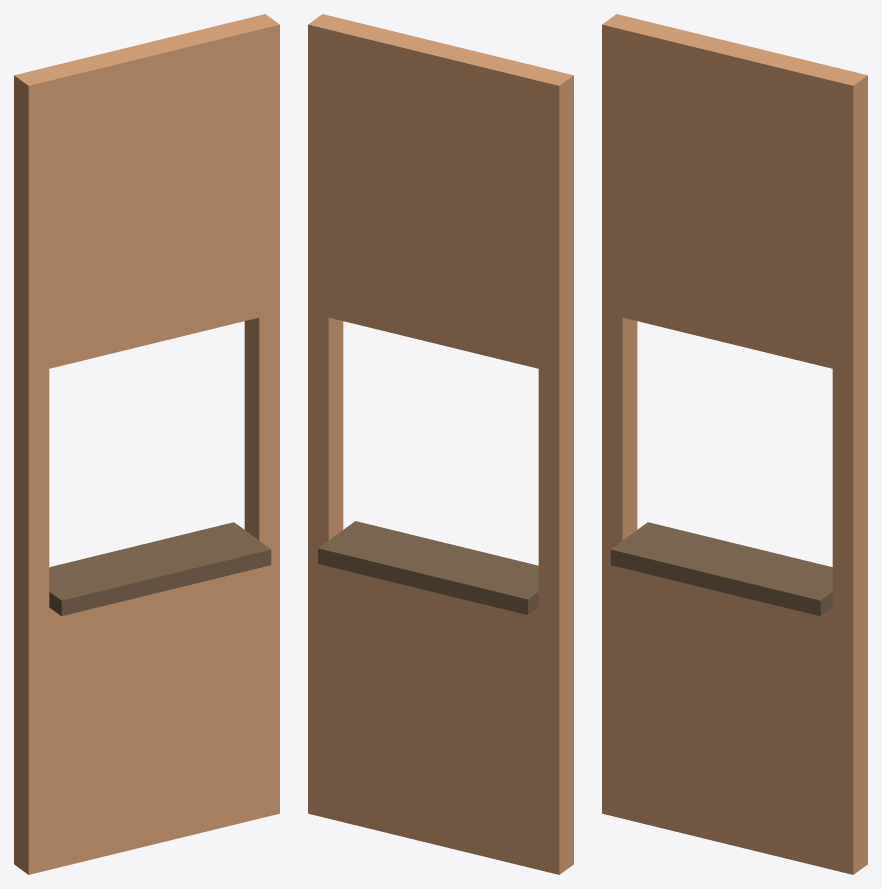
Rendered from Mesh_Wall_D2.fbx.
3 views of the same model, side by side, from view 1: azimuth 30°, elevation 25°; view 2: azimuth 150°, elevation 25°; view 3: azimuth 330°, elevation 25° (orthographic).
Visible parts, largest first — view 1: Mesh_Wall_D2; view 2: Mesh_Wall_D2; view 3: Mesh_Wall_D2.
Part boxes in pixels (bbox=[...]): Mesh_Wall_D2: bbox=[14, 14, 279, 874]; Mesh_Wall_D2: bbox=[308, 14, 573, 874]; Mesh_Wall_D2: bbox=[602, 14, 867, 874].
Size of the model in its own units: 1 by 3 by 0.2574.
